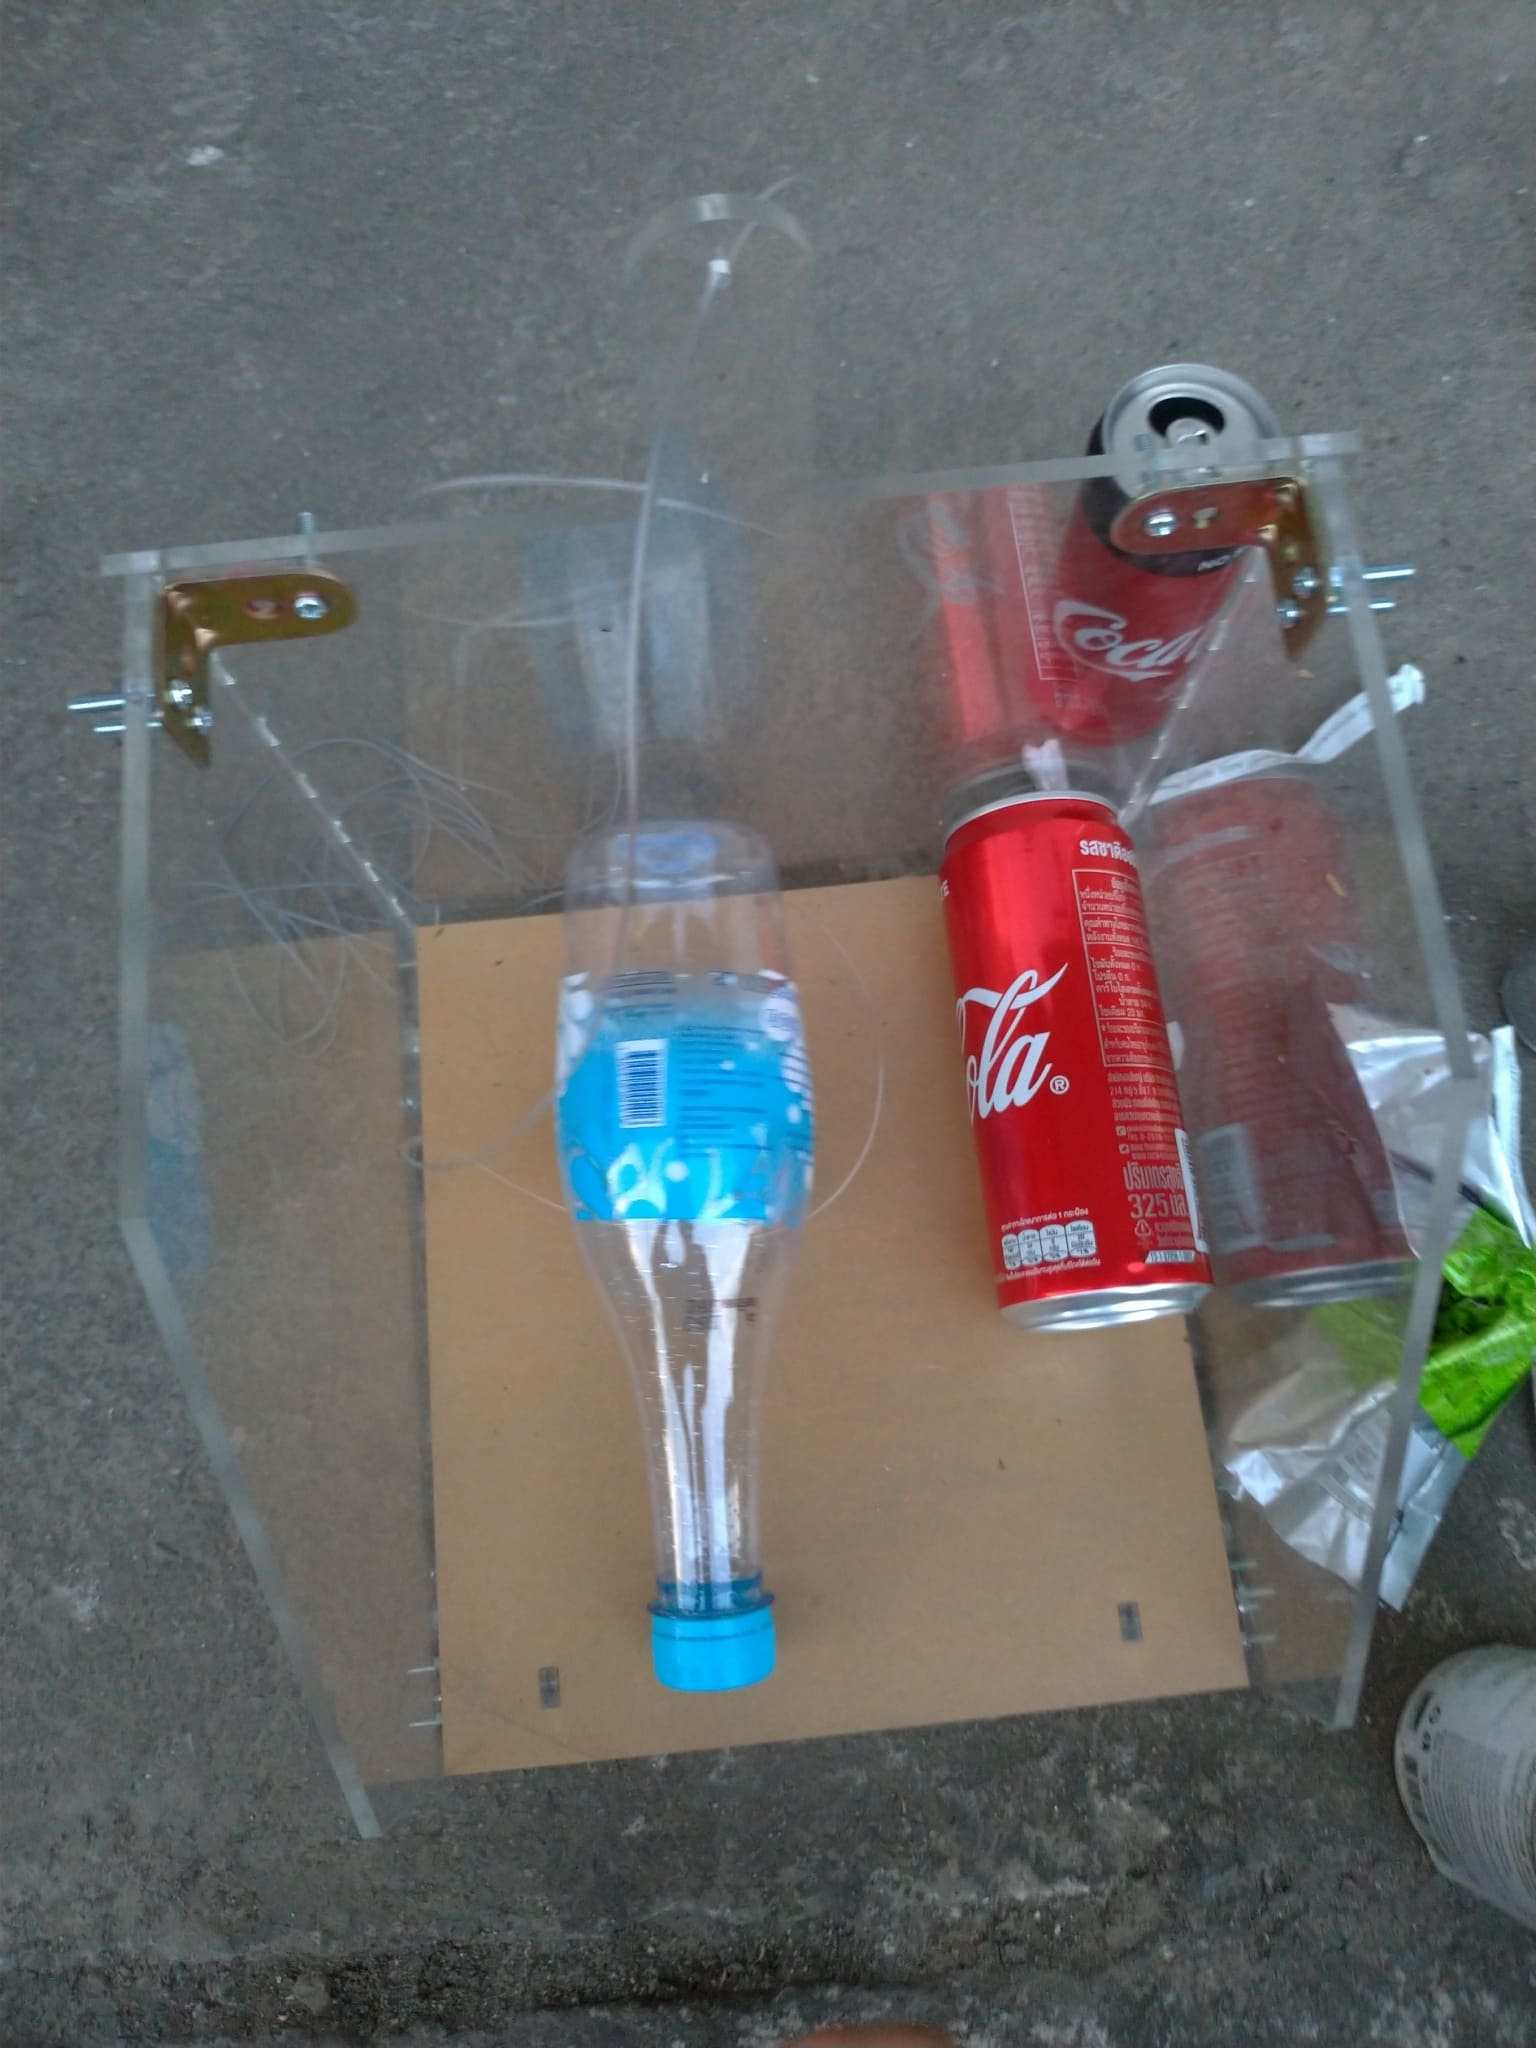AlCan: (937, 789, 1210, 1334), (1041, 364, 1283, 751)
Others: (1220, 1005, 1530, 1605)
PlasticBottle: (547, 814, 820, 1698)
